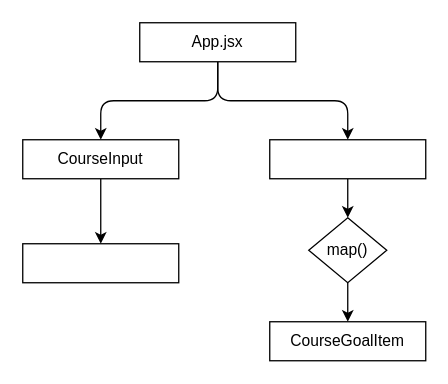
Image size: 448x384. Some labels were removed from this diagram. The centre of each missing label's shape, as x and y in pixels:
"CourseGoalList" belongs at [347,158].
"UI/Button" belongs at [100,262].
